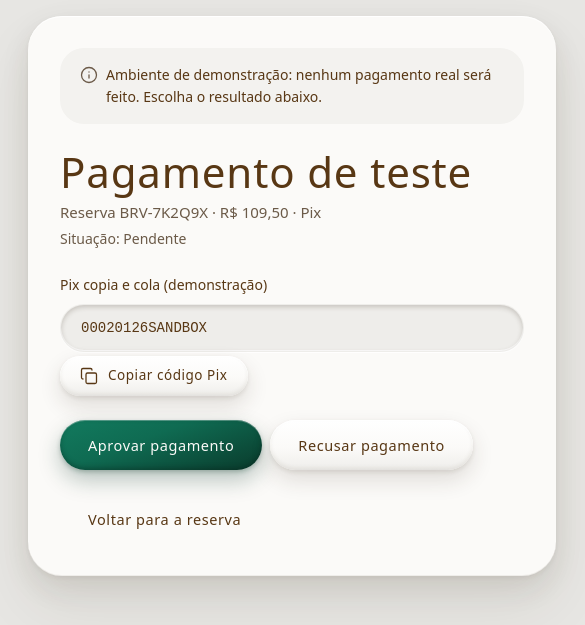
SandboxCheckoutPage (NUC-120) › rejects through the endpoint
The width and height of the screenshot is (585, 625).
Click the button "Recusar pagamento". click: click(372, 445)
box: [270, 420, 473, 470]
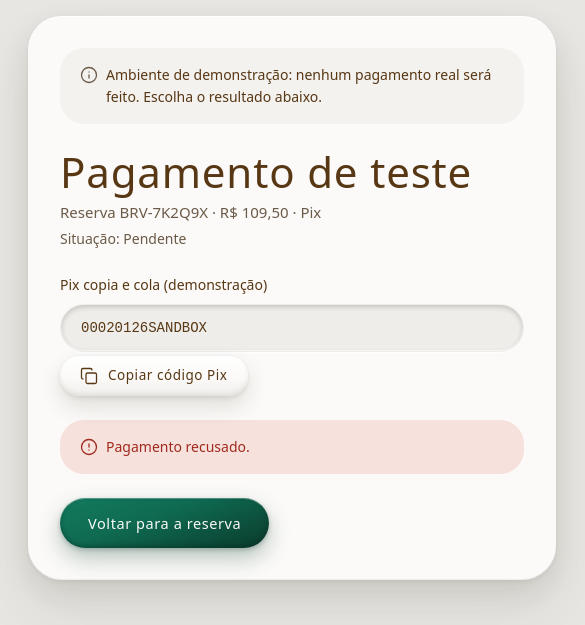
Now the text "Pagamento recusado." is shown, box [106, 437, 250, 456]
